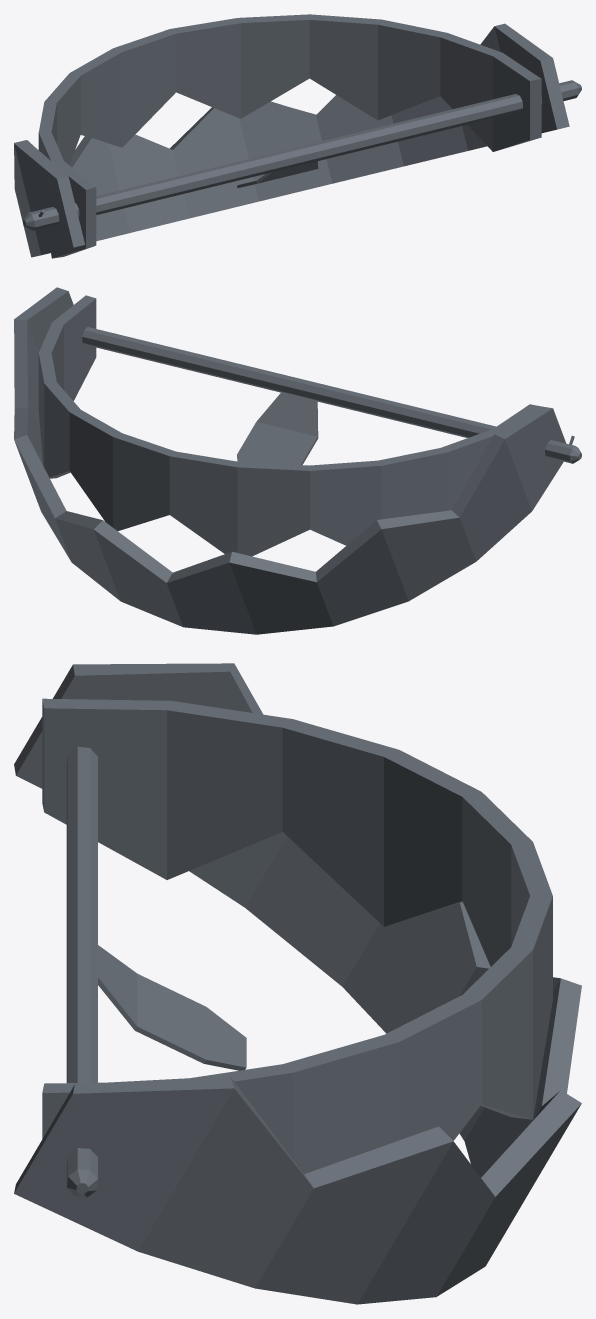
Rendered from SM_ClosedBearTrap.fbx.
The picture shows the model from 3 angles, top to bottom: view 1: azimuth 30°, elevation 25°; view 2: azimuth 150°, elevation 25°; view 3: azimuth 270°, elevation 25°; orthographic projection. The views are drawn at different scales.
Visible parts, largest first — view 1: SM_ClosedBearTrap; view 2: SM_ClosedBearTrap; view 3: SM_ClosedBearTrap.
Boxes of the visible parts, x1,y1,x2,y2 form: SM_ClosedBearTrap: [14, 14, 581, 258]; SM_ClosedBearTrap: [14, 287, 581, 634]; SM_ClosedBearTrap: [14, 663, 581, 1304].
Bounding box in the file's own units: 75.52 × 25.11 × 37.68.
